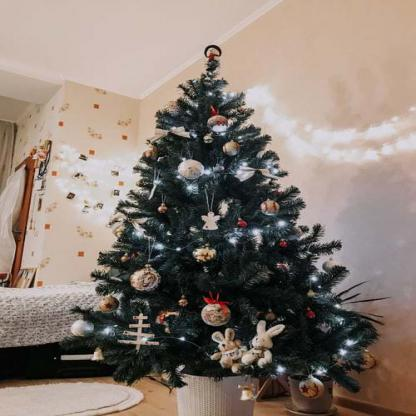x_mas tree: (77, 26, 385, 406)
